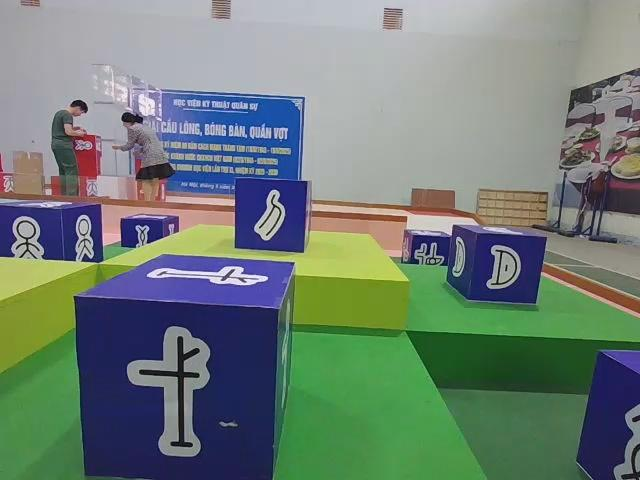R2 Real Blue: (72, 252, 297, 480), (446, 225, 548, 308), (577, 352, 640, 480), (2, 200, 105, 263), (236, 179, 314, 256), (119, 213, 179, 247), (402, 231, 452, 267)
